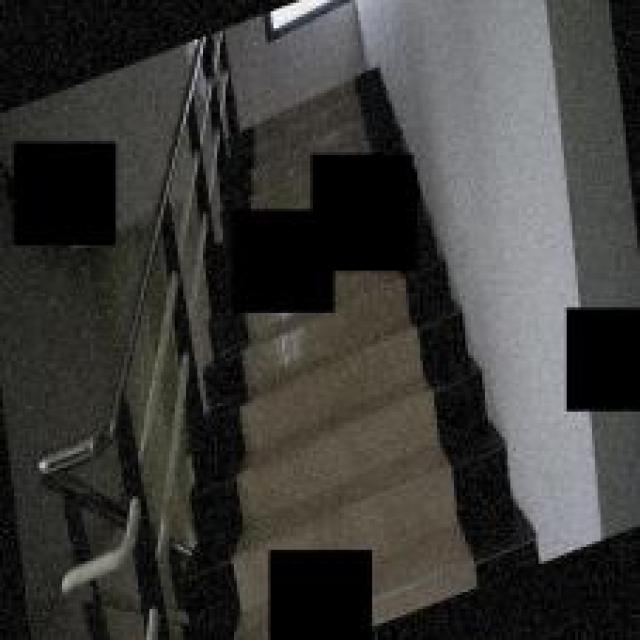upstair: (194, 319, 510, 530)
